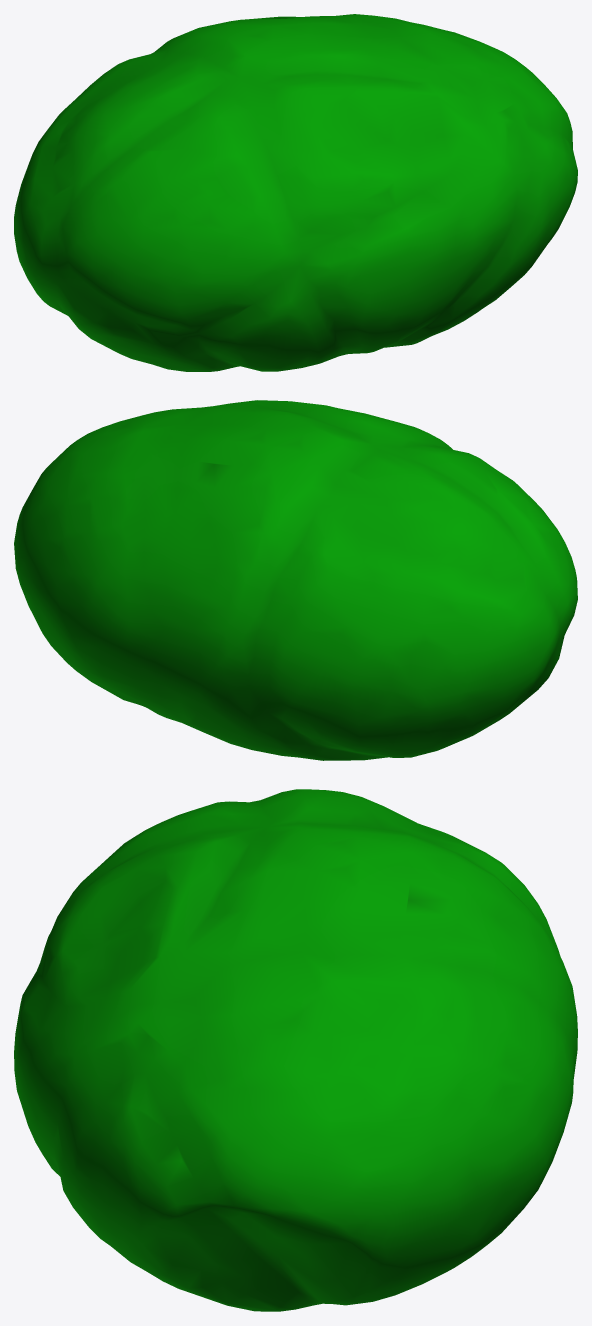
The model's file is boulder_b.glb.
The picture shows the model from 3 angles, top to bottom: view 1: azimuth 30°, elevation 25°; view 2: azimuth 150°, elevation 25°; view 3: azimuth 270°, elevation 25°; orthographic projection. The views are drawn at different scales.
Parts seen in each view (by area): view 1: LOD0; view 2: LOD0; view 3: LOD0.
Part boxes in pixels (x1=…): LOD0: x1=14, y1=14, x2=577, y2=371; LOD0: x1=14, y1=400, x2=577, y2=760; LOD0: x1=14, y1=789, x2=577, y2=1311.
Size of what is drawn, in the model's own units: 4.21 by 2.23 by 3.03.
